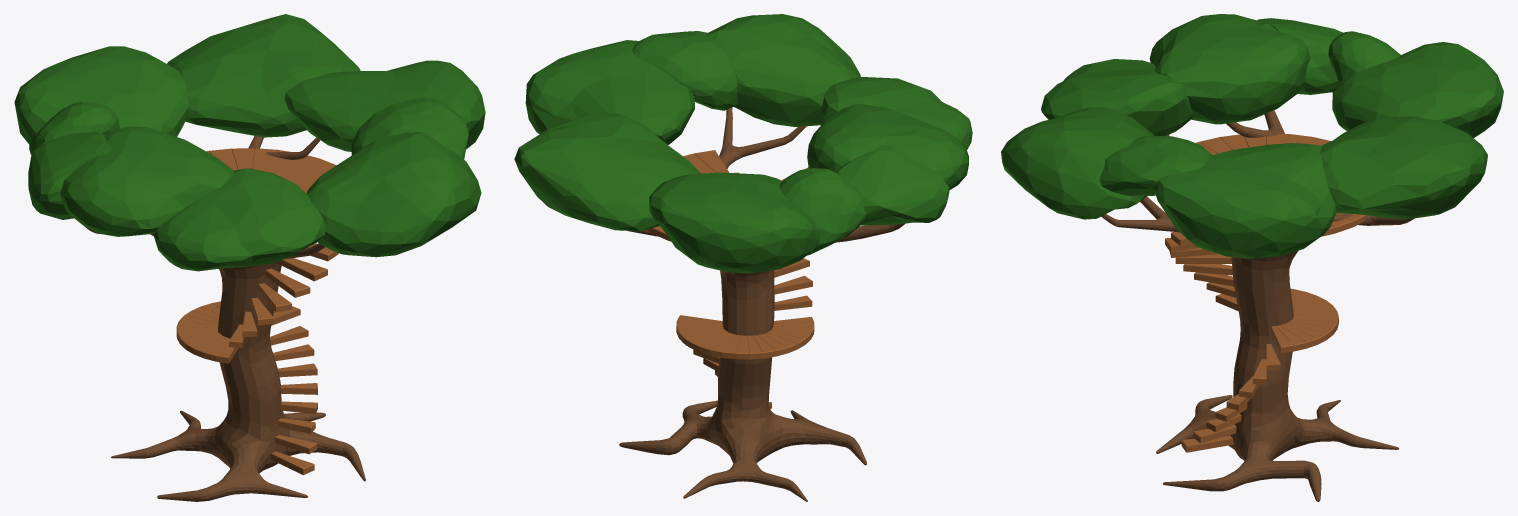
File: ElfGuardpost.fbx
3 renders of one model, left to right at view 1: azimuth 30°, elevation 25°; view 2: azimuth 150°, elevation 25°; view 3: azimuth 270°, elevation 25°, orthographic. The views are drawn at different scales.
Parts seen in each view (by area): view 1: Guardpost; view 2: Guardpost; view 3: Guardpost.
Part boxes in pixels (x1,y1,x2,y2): Guardpost: (14, 14, 485, 501); Guardpost: (514, 14, 972, 501); Guardpost: (1001, 14, 1503, 501).
Size of the model in its own units: 803 by 800 by 644.
